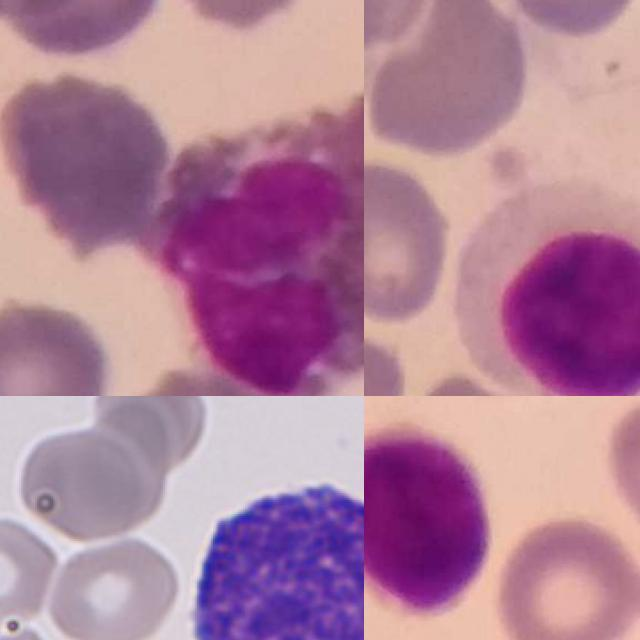Eosinophil: (157, 95, 364, 396)
Lymphocyte: (456, 175, 640, 396), (177, 467, 364, 640), (364, 423, 490, 620)
RBC: (12, 420, 163, 544), (44, 530, 184, 640), (0, 516, 63, 628)
